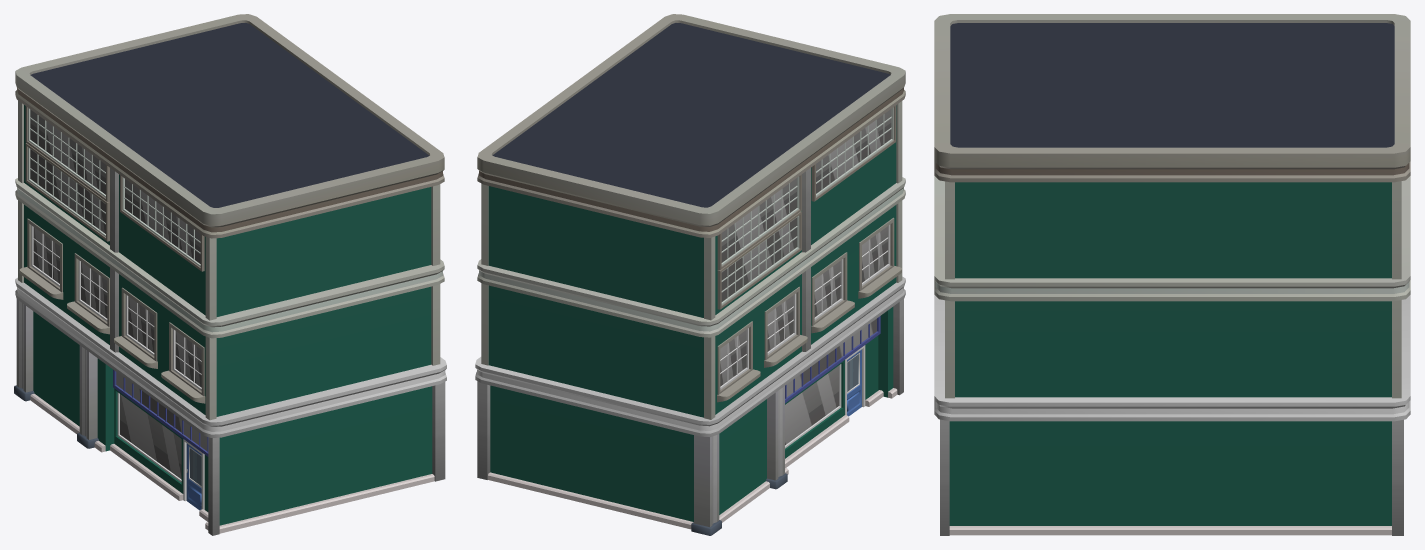
Rendered from Building_11_1_D.fbx.
3 renders of one model, left to right at view 1: azimuth 30°, elevation 25°; view 2: azimuth 150°, elevation 25°; view 3: azimuth 270°, elevation 25°, orthographic. The views are drawn at different scales.
Parts seen in each view (by area): view 1: Building_11_1_D; view 2: Building_11_1_D; view 3: Building_11_1_D.
Boxes of the visible parts, x1=… form: Building_11_1_D: x1=14, y1=14, x2=446, y2=535; Building_11_1_D: x1=475, y1=14, x2=905, y2=535; Building_11_1_D: x1=934, y1=14, x2=1410, y2=535.
Bounding box in the file's own units: 827 × 1034 × 1163.
